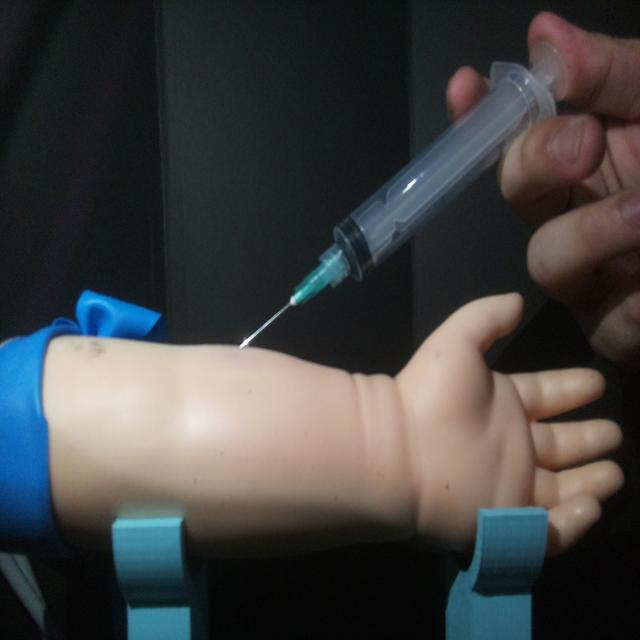30deg: (233, 39, 570, 352)
